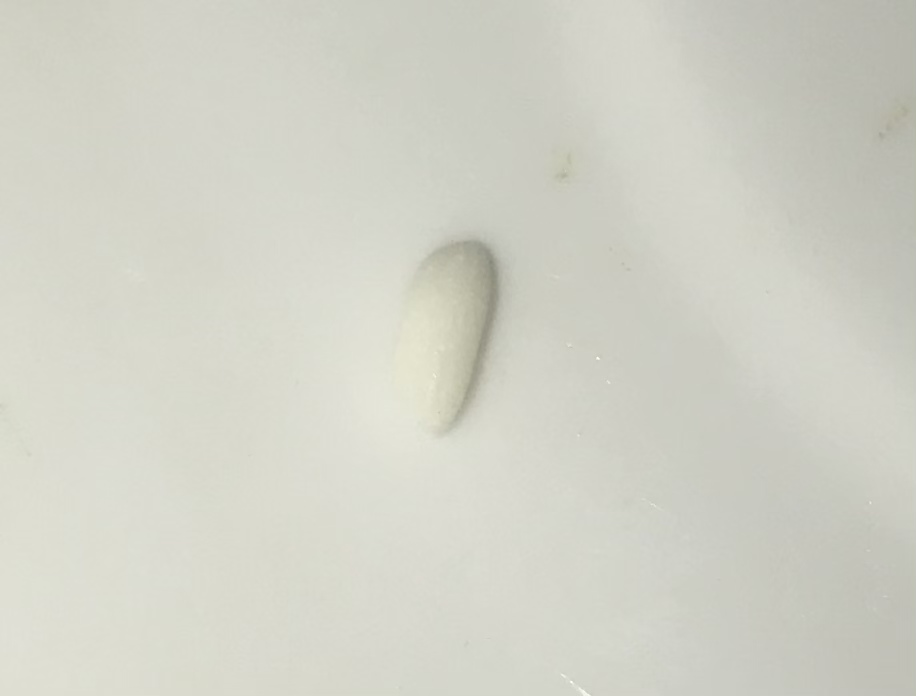Gao Nep Sap: (392, 238, 496, 435)
